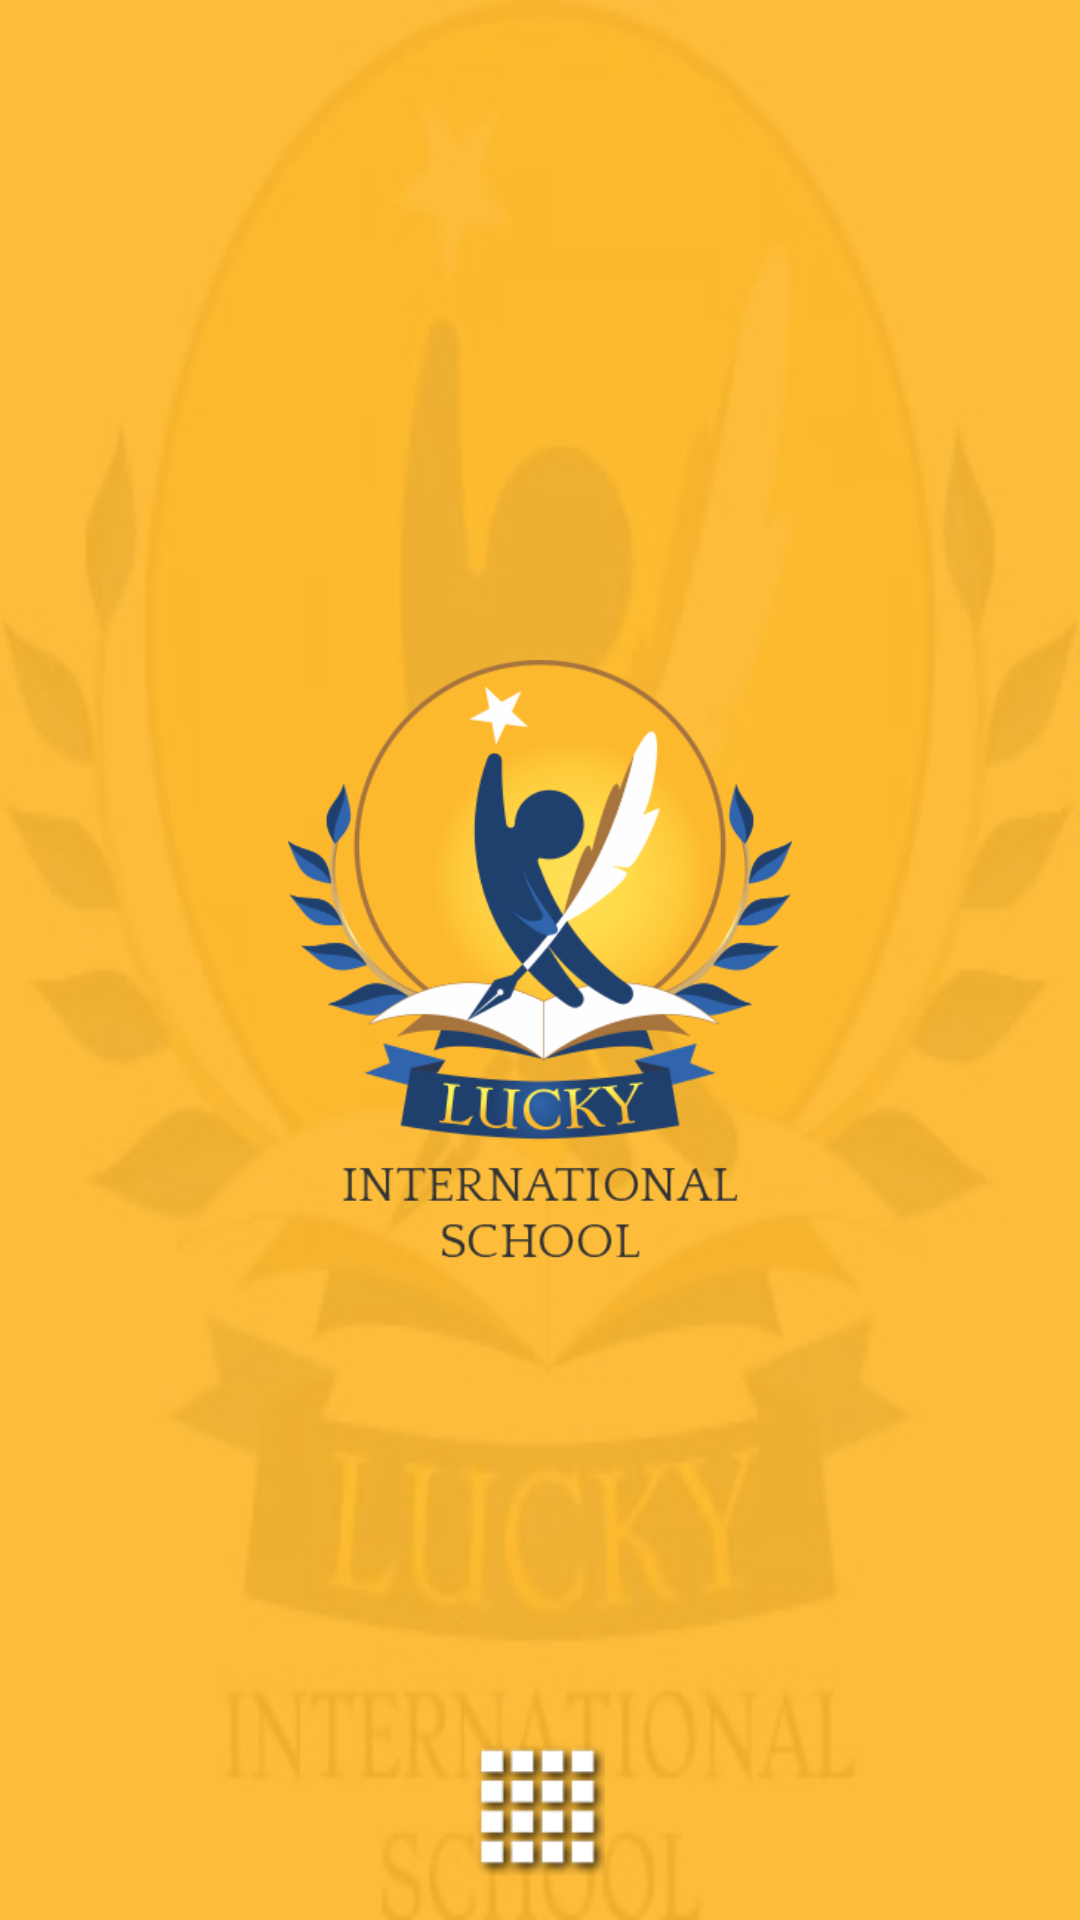

Named icons in this screenshot (1080px×1920px) and their centers, (x,y):
menu: (542,1810)
